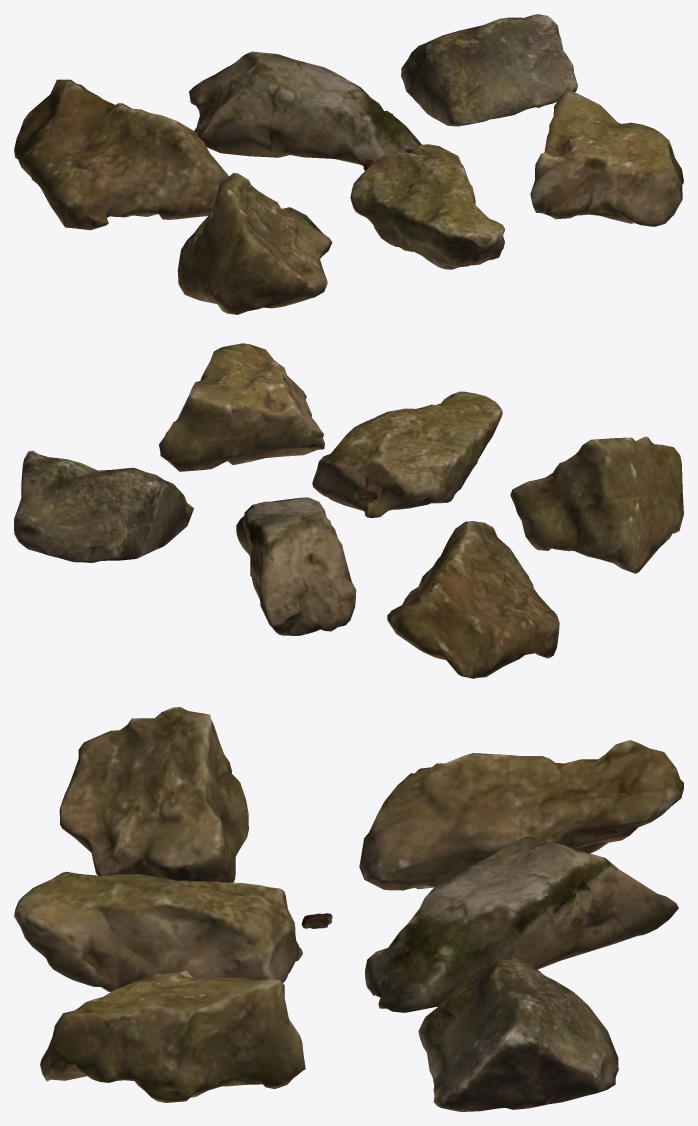
The model's file is rocks.glb.
The picture shows the model from 3 angles, top to bottom: view 1: azimuth 30°, elevation 25°; view 2: azimuth 150°, elevation 25°; view 3: azimuth 270°, elevation 25°; orthographic projection. The views are drawn at different scales.
Visible parts, largest first — view 1: moss_0, moss_1, moss_5, moss_3, moss_2, moss_4; view 2: moss_3, moss_0, moss_4, moss_2, moss_5, moss_1; view 3: moss_0, moss_1, moss_4, moss_3, moss_5, moss_2.
Part boxes in pixels (x1=…): moss_0: x1=14, y1=79, x2=228, y2=230; moss_1: x1=189, y1=51, x2=421, y2=165; moss_5: x1=530, y1=89, x2=683, y2=226; moss_3: x1=177, y1=173, x2=332, y2=314; moss_2: x1=401, y1=14, x2=577, y2=126; moss_4: x1=350, y1=144, x2=504, y2=269; moss_3: x1=510, y1=436, x2=683, y2=573; moss_0: x1=387, y1=521, x2=559, y2=678; moss_4: x1=312, y1=391, x2=502, y2=517; moss_2: x1=14, y1=450, x2=193, y2=562; moss_5: x1=159, y1=343, x2=324, y2=471; moss_1: x1=236, y1=497, x2=356, y2=635; moss_0: x1=359, y1=740, x2=683, y2=890; moss_1: x1=365, y1=836, x2=678, y2=1012; moss_4: x1=14, y1=871, x2=302, y2=991; moss_3: x1=59, y1=707, x2=248, y2=882; moss_5: x1=40, y1=970, x2=305, y2=1102; moss_2: x1=418, y1=956, x2=618, y2=1111.
Bounding box in the file's own units: 8 × 1.76 × 6.94.
4 materials, 4 textured.
